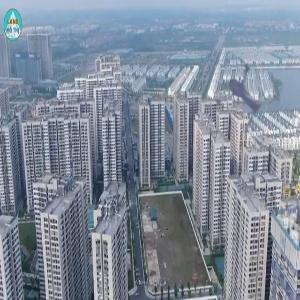drone: (195, 45, 293, 143)
